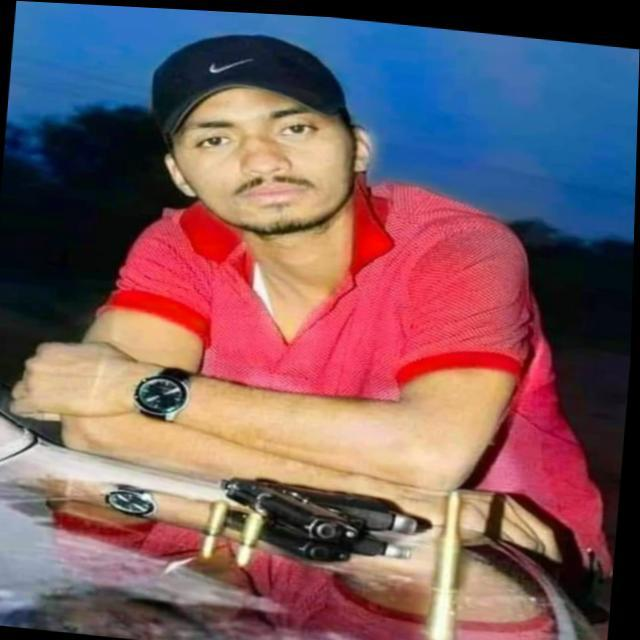weapon: (216, 467, 429, 552)
